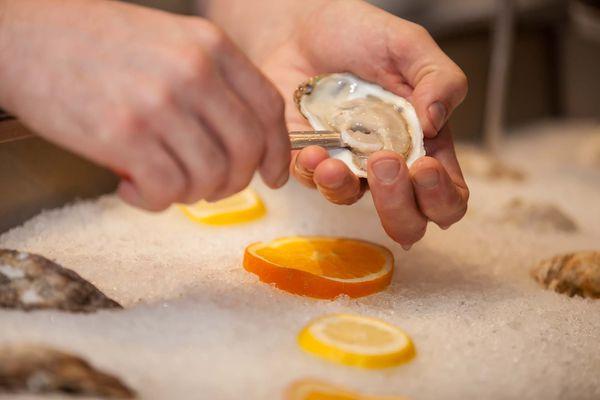taco: (241, 236, 395, 300)
